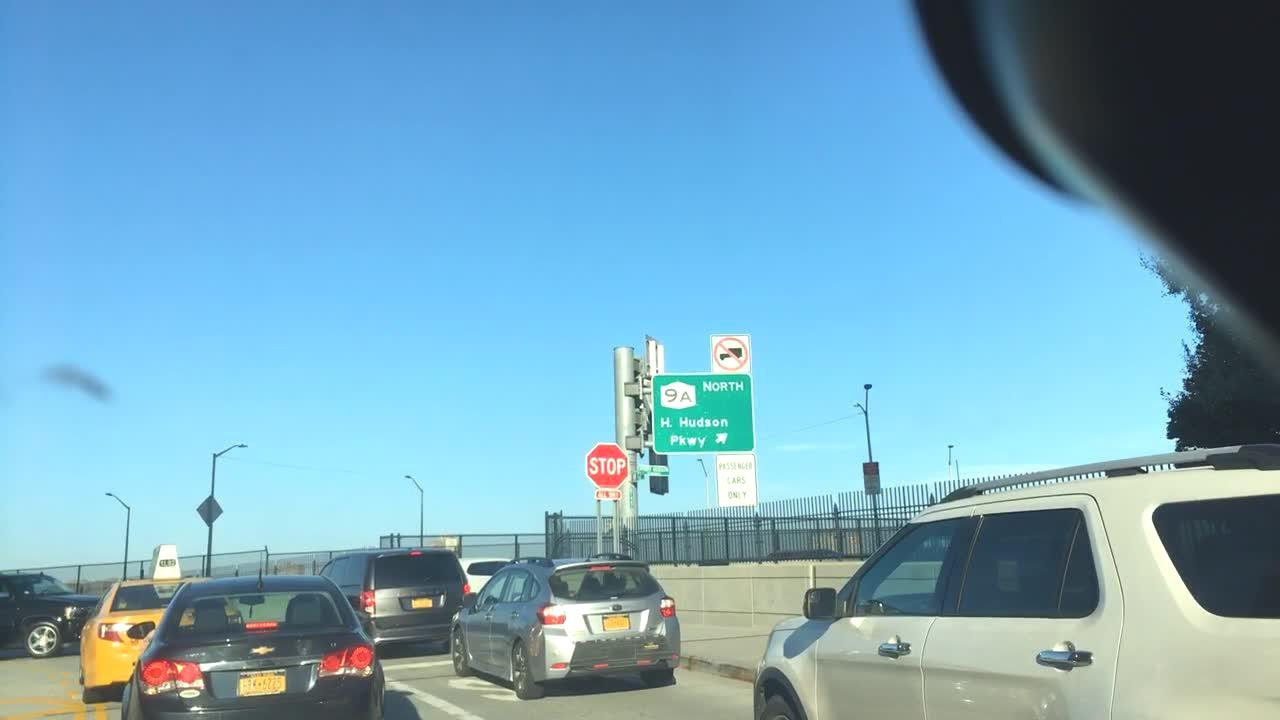chevrolet: (247, 643, 278, 659)
